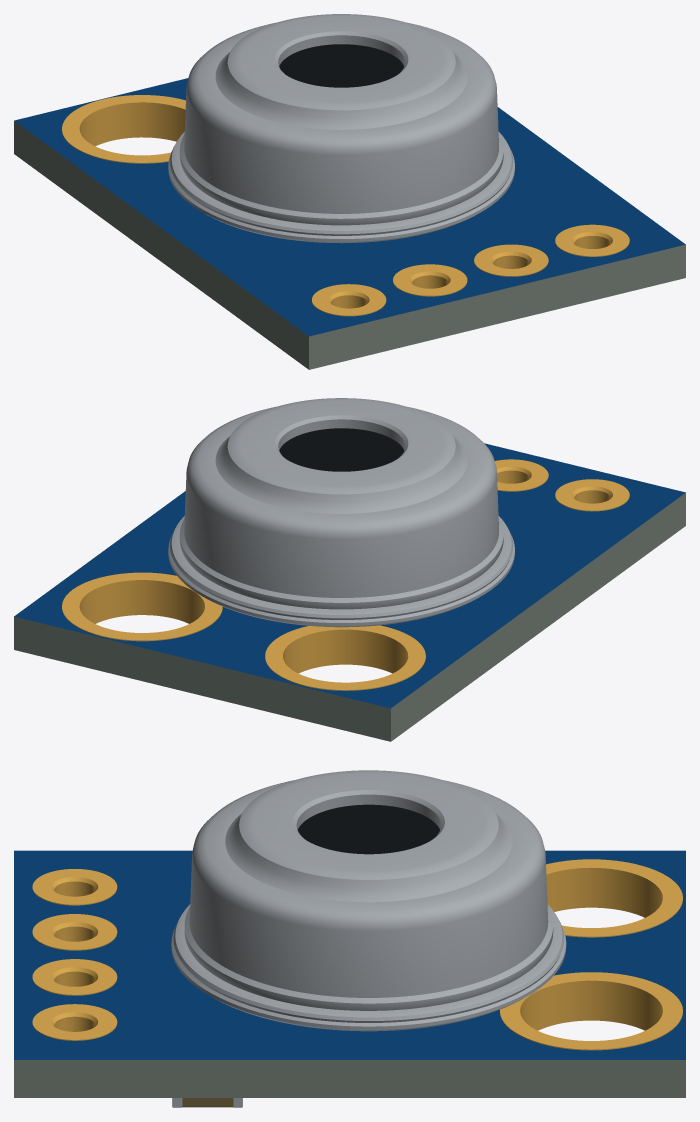
Rendered from temperatura.glb.
The picture shows the model from 3 angles, top to bottom: view 1: azimuth 30°, elevation 25°; view 2: azimuth 150°, elevation 25°; view 3: azimuth 270°, elevation 25°; orthographic projection. The views are drawn at different scales.
Parts seen in each view (by area): view 1: PCB substrate_export, Stepped hollow sensor can_export, Rolled sensor base flange_export, Recessed optical window_export, Mounting hole plated barrel_export, Mounting hole upper pad_export, Connector 1 plated contact_export, Connector 2 plated contact_export, Connector 3 plated contact_export, Connector 4 plated contact_export; view 2: PCB substrate_export, Stepped hollow sensor can_export, Rolled sensor base flange_export, Recessed optical window_export, Mounting hole plated barrel.001_export, Mounting hole plated barrel_export, Mounting hole upper pad_export, Mounting hole upper pad.001_export, Connector 1 plated contact_export, Connector 2 plated contact_export; view 3: PCB substrate_export, Stepped hollow sensor can_export, Rolled sensor base flange_export, Recessed optical window_export, Mounting hole plated barrel.001_export, Mounting hole upper pad.001_export, Mounting hole plated barrel_export, Mounting hole upper pad_export, Connector 4 plated contact_export, Connector 3 plated contact_export, Connector 1 plated contact_export, Connector 2 plated contact_export.
Boxes of the visible parts, left/top/right/bottom form: PCB substrate_export: left=14, top=78, right=685, bottom=369; Stepped hollow sensor can_export: left=179, top=14, right=503, bottom=225; Rolled sensor base flange_export: left=168, top=132, right=514, bottom=243; Recessed optical window_export: left=279, top=44, right=403, bottom=87; Mounting hole plated barrel_export: left=79, top=103, right=185, bottom=145; Mounting hole upper pad_export: left=62, top=95, right=185, bottom=163; Connector 1 plated contact_export: left=312, top=284, right=386, bottom=316; Connector 2 plated contact_export: left=393, top=264, right=467, bottom=296; Connector 3 plated contact_export: left=474, top=244, right=548, bottom=276; Connector 4 plated contact_export: left=555, top=224, right=629, bottom=256; PCB substrate_export: left=14, top=443, right=685, bottom=741; Stepped hollow sensor can_export: left=179, top=398, right=503, bottom=609; Rolled sensor base flange_export: left=168, top=516, right=514, bottom=627; Recessed optical window_export: left=279, top=428, right=404, bottom=471; Mounting hole plated barrel.001_export: left=79, top=581, right=204, bottom=623; Mounting hole plated barrel_export: left=283, top=630, right=407, bottom=672; Mounting hole upper pad_export: left=265, top=625, right=425, bottom=690; Mounting hole upper pad.001_export: left=62, top=572, right=222, bottom=641; Connector 1 plated contact_export: left=555, top=479, right=629, bottom=511; Connector 2 plated contact_export: left=494, top=459, right=548, bottom=491; PCB substrate_export: left=14, top=850, right=685, bottom=1097; Stepped hollow sensor can_export: left=184, top=770, right=553, bottom=1010; Rolled sensor base flange_export: left=171, top=904, right=566, bottom=1031; Recessed optical window_export: left=297, top=804, right=439, bottom=854; Mounting hole plated barrel.001_export: left=520, top=981, right=662, bottom=1029; Mounting hole upper pad.001_export: left=500, top=972, right=682, bottom=1050; Mounting hole plated barrel_export: left=546, top=868, right=662, bottom=917; Mounting hole upper pad_export: left=546, top=859, right=682, bottom=937; Connector 4 plated contact_export: left=32, top=1004, right=117, bottom=1040; Connector 3 plated contact_export: left=32, top=959, right=117, bottom=995; Connector 1 plated contact_export: left=32, top=869, right=117, bottom=905; Connector 2 plated contact_export: left=32, top=914, right=117, bottom=950.
Size of the model in its own units: 0.0118 by 0.00566 by 0.016.
